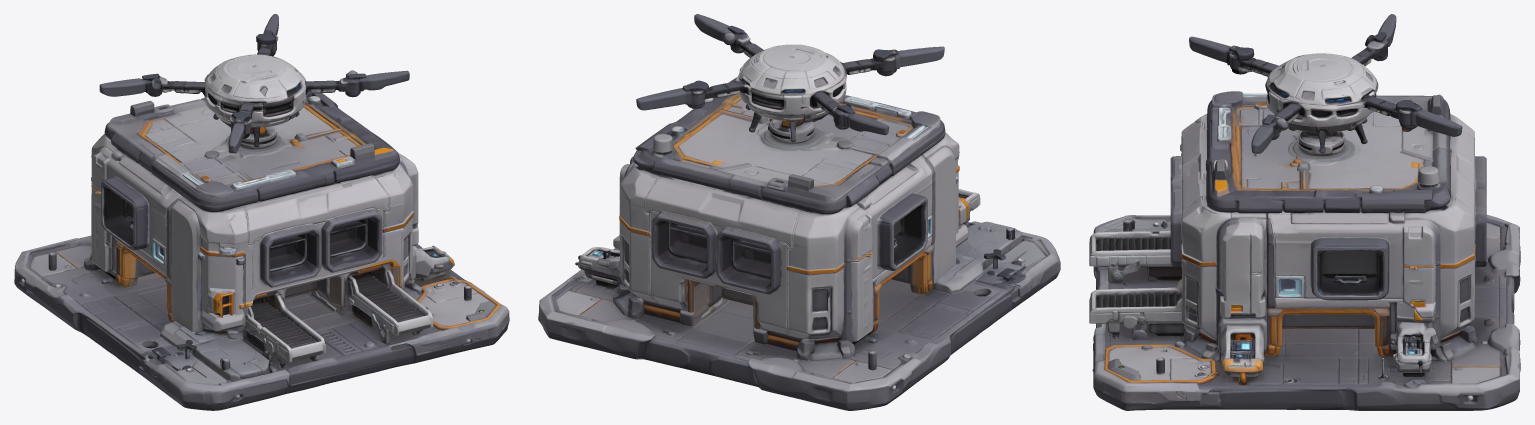
Rendered from unloader.glb.
The picture shows the model from 3 angles, left to right: view 1: azimuth 30°, elevation 25°; view 2: azimuth 150°, elevation 25°; view 3: azimuth 270°, elevation 25°; orthographic projection. The views are drawn at different scales.
Parts seen in each view (by area): view 1: FC_housing, FC_dockcraft; view 2: FC_housing, FC_dockcraft; view 3: FC_housing, FC_dockcraft.
Boxes of the visible parts, x1,y1,x2,y2 form: FC_housing: (14, 81, 509, 410); FC_dockcraft: (99, 14, 409, 158); FC_housing: (538, 77, 1060, 410); FC_dockcraft: (636, 14, 944, 189); FC_housing: (1089, 91, 1520, 410); FC_dockcraft: (1189, 14, 1462, 184).
Size of the model in its own units: 0.9626 by 0.6503 by 0.9807.
Materials: 1 (1 with a texture image).
